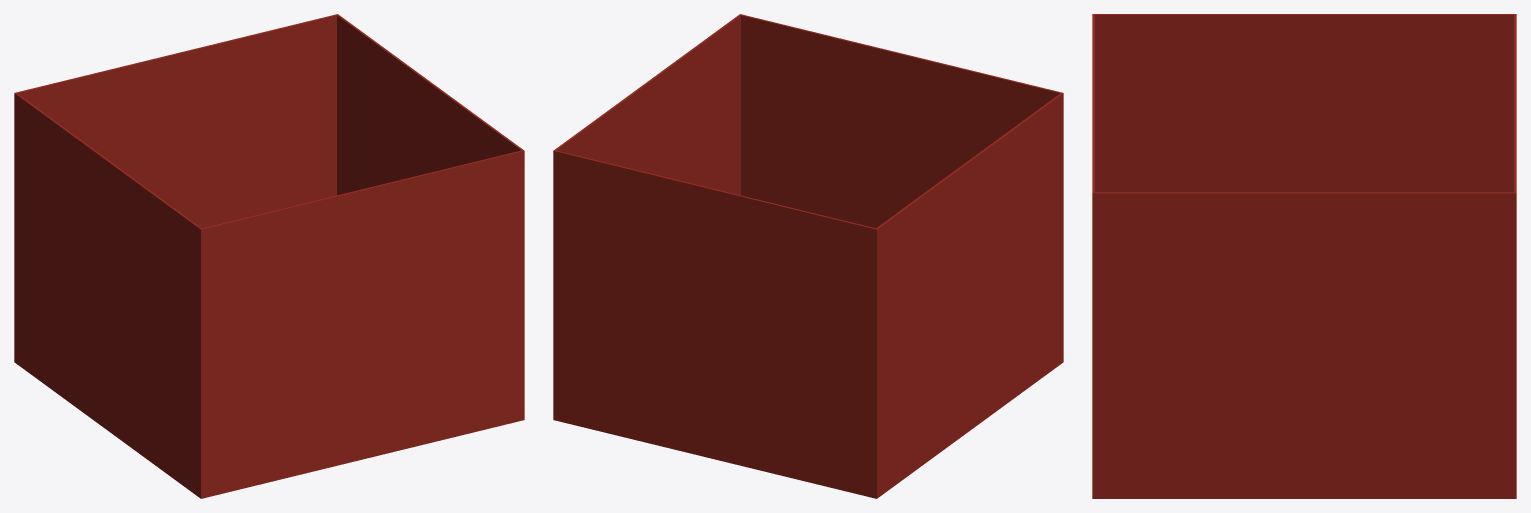
Rendered from pillar_band_rot.glb.
3 views of the same model, side by side, from view 1: azimuth 30°, elevation 25°; view 2: azimuth 150°, elevation 25°; view 3: azimuth 270°, elevation 25° (orthographic). The views are drawn at different scales.
Parts seen in each view (by area): view 1: s, w, n, o; view 2: n, w, s, o; view 3: o, w, n, s.
Boxes of the visible parts, bbox=[...] form: s: bbox=[200, 150, 524, 498]; w: bbox=[14, 93, 202, 497]; n: bbox=[14, 14, 338, 362]; o: bbox=[337, 14, 524, 401]; n: bbox=[553, 150, 877, 498]; w: bbox=[875, 93, 1063, 498]; s: bbox=[739, 14, 1063, 355]; o: bbox=[553, 14, 741, 396]; o: bbox=[1092, 192, 1516, 498]; w: bbox=[1095, 14, 1516, 192]; n: bbox=[1514, 14, 1516, 498]; s: bbox=[1092, 14, 1094, 498].
Size of the model in its own units: 1.01 by 0.8 by 1.01.
